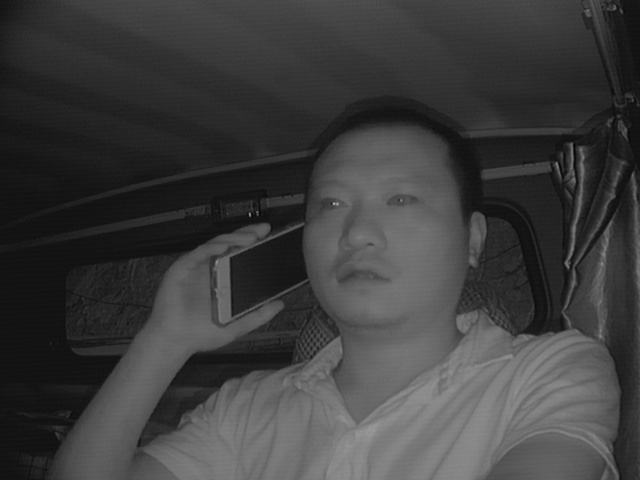hand: (161, 225, 285, 346)
